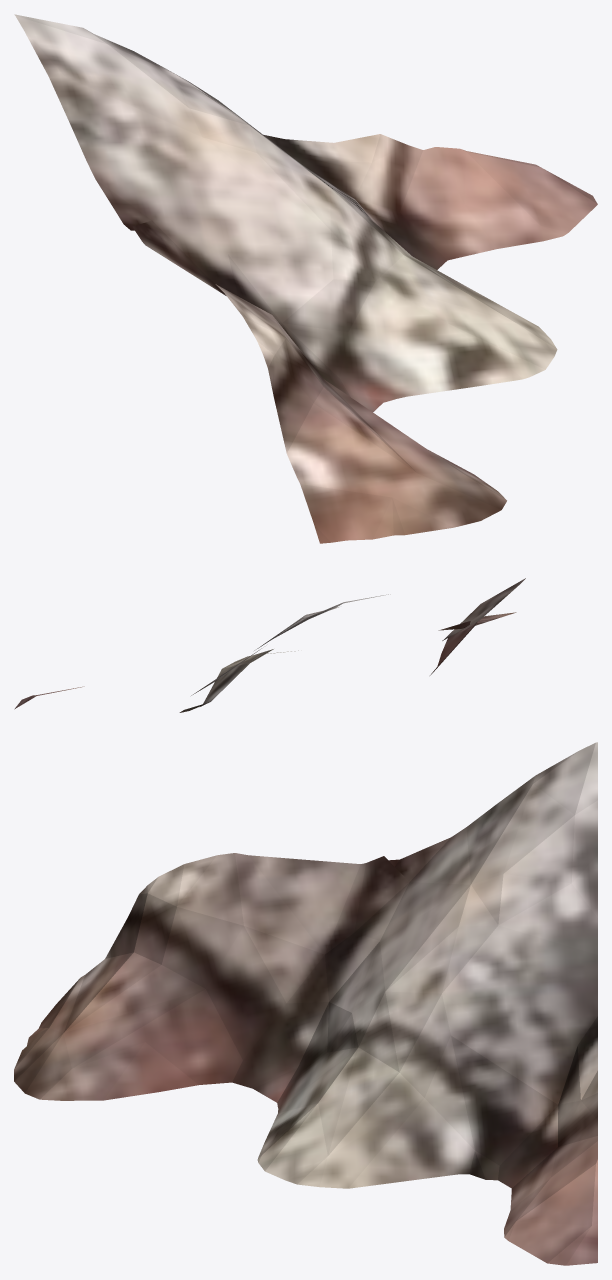
The picture shows the model from 3 angles, top to bottom: view 1: azimuth 30°, elevation 25°; view 2: azimuth 150°, elevation 25°; view 3: azimuth 270°, elevation 25°; orthographic projection. The views are drawn at different scales.
Size of the model in its own units: 0.3874 by 0.2015 by 0.3863.
Materials: 1 (1 with a texture image).
